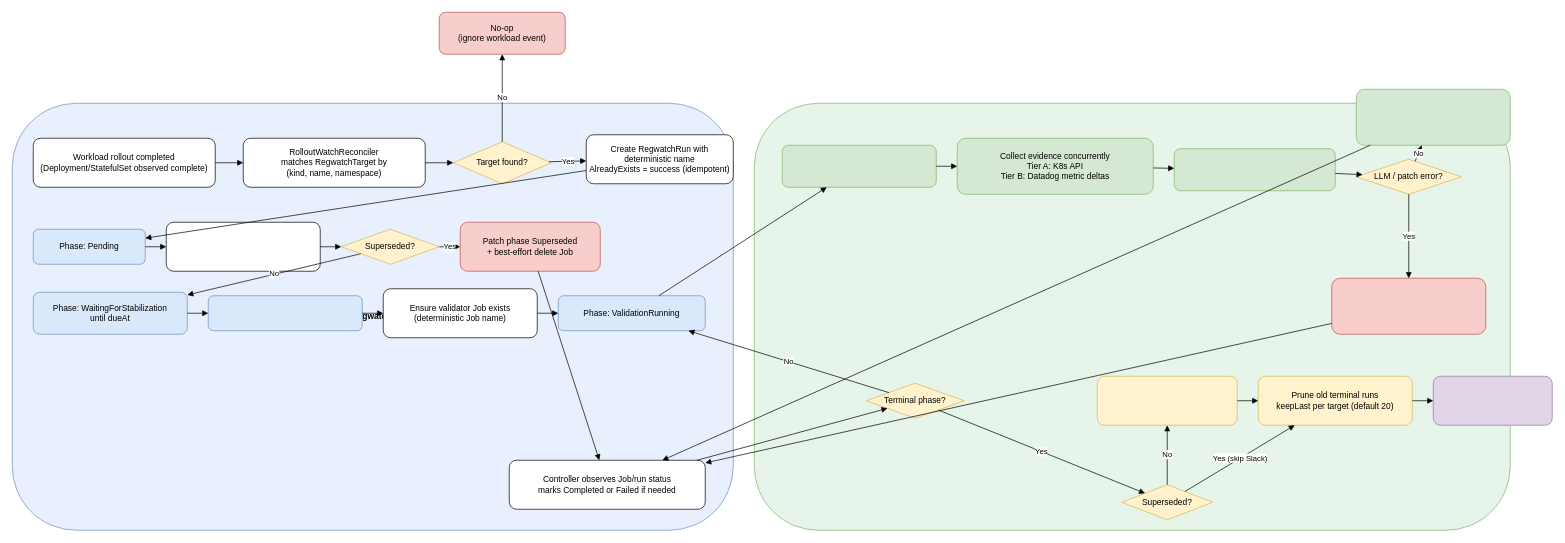
Some shapes in this 1565 by 543 pixel diagram are drawn without their labels. The box of each missing label's shape, as (x1, y1, x2, y2) in pixels:
Check newer run exists for same target/workload UID: (166, 222, 320, 271)
End states Completed | Failed | Superseded: (1433, 376, 1552, 425)
Notify Slack once (skip if already notified): (1097, 376, 1237, 425)
Patch compact result Phase: Completed verdict, confidence, summary, audit: (1356, 89, 1510, 145)
Patch run status Phase: Failed set RunFailure + ValidationFailed: (1331, 278, 1486, 334)
Phase: ValidationJobPending: (208, 295, 362, 331)
Single LLM structured call (exactly once per run): (1174, 148, 1335, 191)
Validator Job Pod (regwatch-validator): (754, 103, 1510, 530)
Validator starts mark ValidationStarted: (782, 145, 936, 187)
